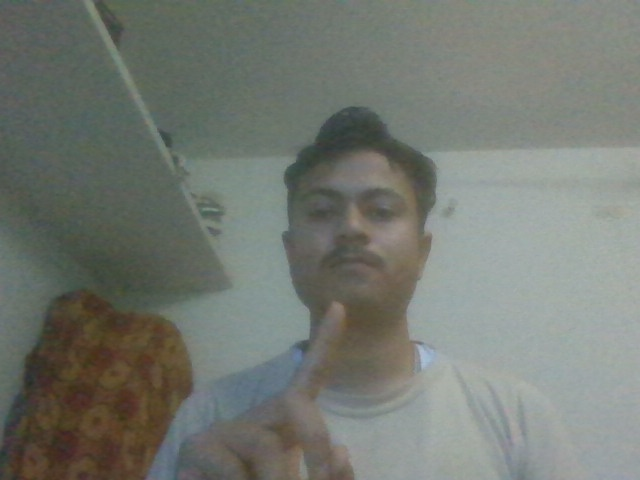No: (219, 299, 389, 480)
